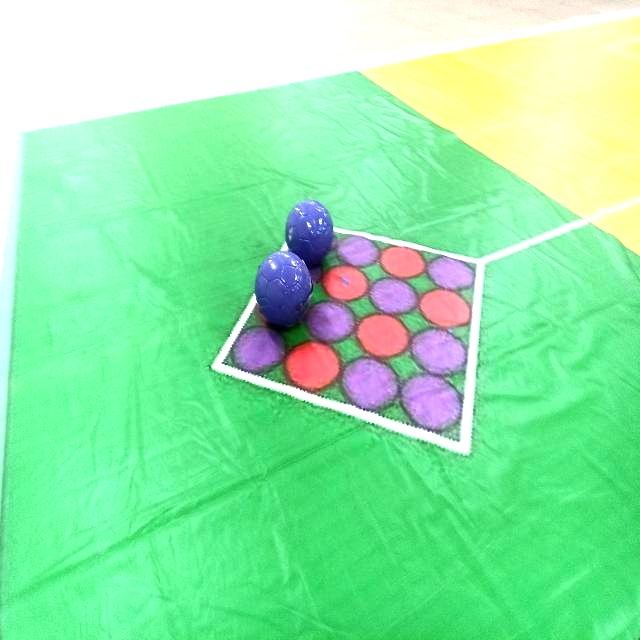purple_ball: (254, 248, 313, 332), (285, 201, 333, 267)
